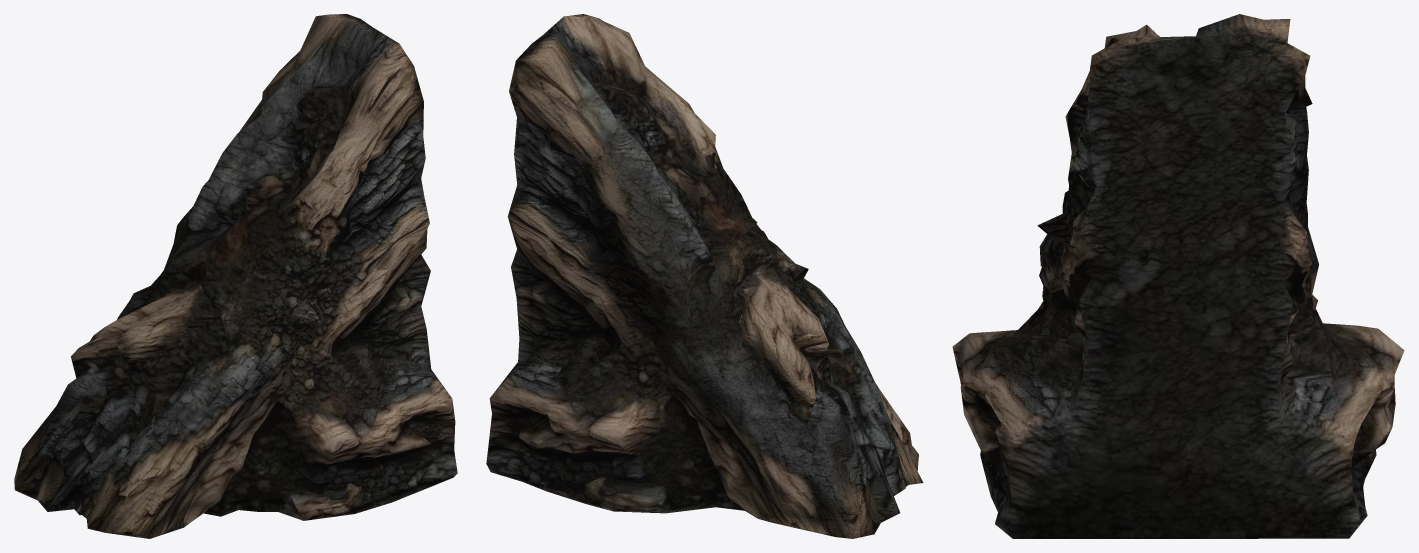
The model's file is root-wedge.glb.
3 views of the same model, side by side, from view 1: azimuth 30°, elevation 25°; view 2: azimuth 150°, elevation 25°; view 3: azimuth 270°, elevation 25° (orthographic). The views are drawn at different scales.
Parts seen in each view (by area): view 1: tripo_node_bbe32c66-6de4-49d2-bcec-99a53d9518ed; view 2: tripo_node_bbe32c66-6de4-49d2-bcec-99a53d9518ed; view 3: tripo_node_bbe32c66-6de4-49d2-bcec-99a53d9518ed.
Part boxes in pixels (x1=…): tripo_node_bbe32c66-6de4-49d2-bcec-99a53d9518ed: x1=14, y1=14, x2=457, y2=538; tripo_node_bbe32c66-6de4-49d2-bcec-99a53d9518ed: x1=486, y1=14, x2=923, y2=538; tripo_node_bbe32c66-6de4-49d2-bcec-99a53d9518ed: x1=952, y1=14, x2=1404, y2=538.
Bounding box in the file's own units: 0.8962 × 1 × 0.7931.
Materials: 1 (1 with a texture image).
